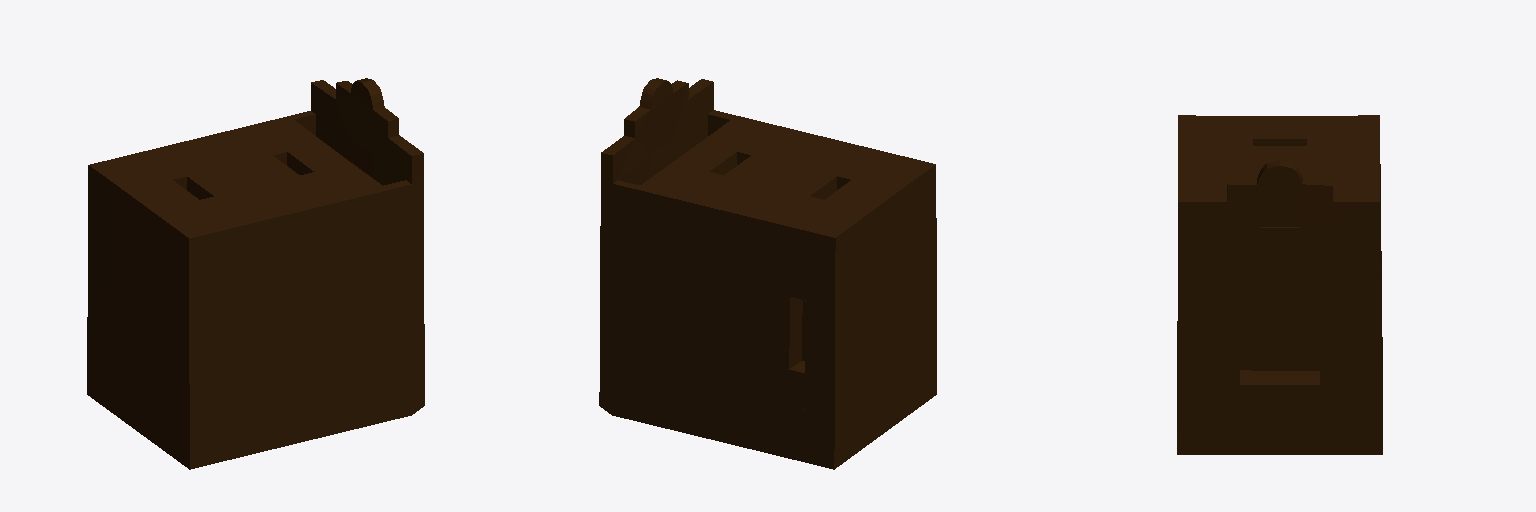
The model's file is BuildingUV.obj.
The picture shows the model from 3 angles: view 1: azimuth 30°, elevation 25°; view 2: azimuth 150°, elevation 25°; view 3: azimuth 270°, elevation 25°; orthographic projection.
Parts seen in each view (by area): view 1: pCube1; view 2: pCube1; view 3: pCube1.
Boxes of the visible parts, <box> form: pCube1: <box>87,78,424,469</box>; pCube1: <box>599,78,936,469</box>; pCube1: <box>1177,115,1382,454</box>.
Size of the model in its own units: 34.58 by 41.4 by 26.11.